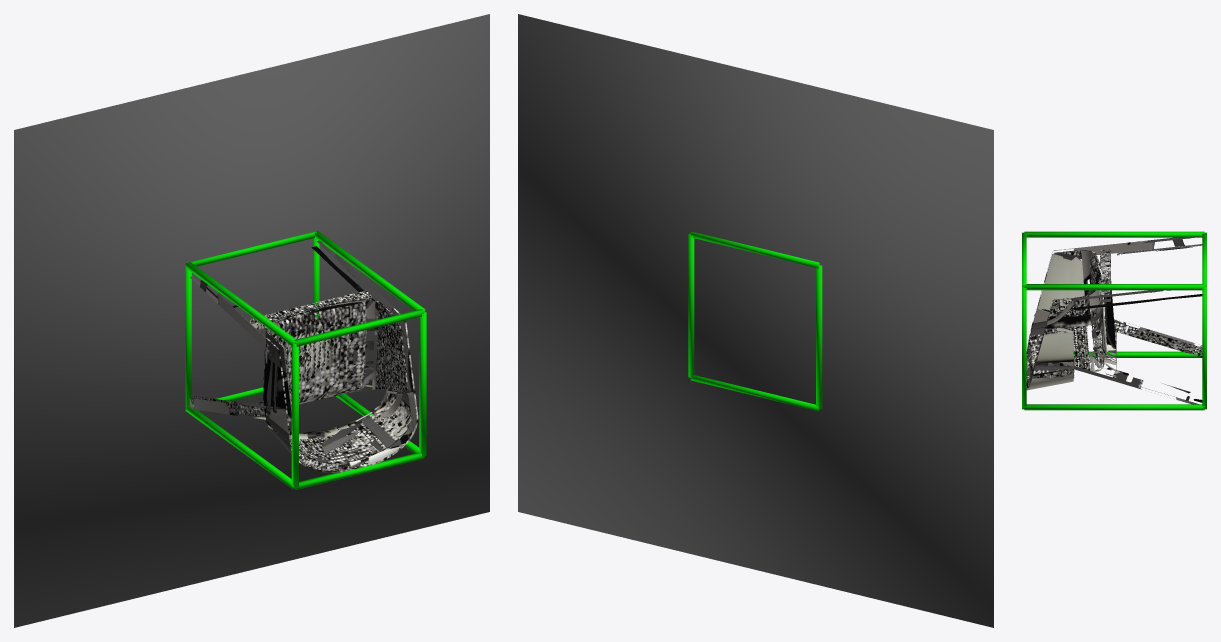
The picture shows the model from 3 angles, left to right: view 1: azimuth 30°, elevation 25°; view 2: azimuth 150°, elevation 25°; view 3: azimuth 270°, elevation 25°; orthographic projection. The views are drawn at different scales.
Size of the model in its own units: 2 by 2 by 0.8004.
